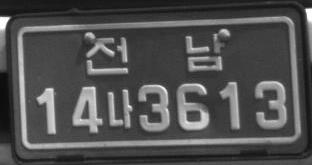1: (218, 80, 247, 130), (33, 86, 62, 134)
3: (136, 83, 171, 134), (253, 79, 288, 130)
4: (70, 85, 103, 134)
6: (175, 82, 211, 132)
나: (105, 88, 132, 129)
전남_D: (83, 33, 225, 76)
